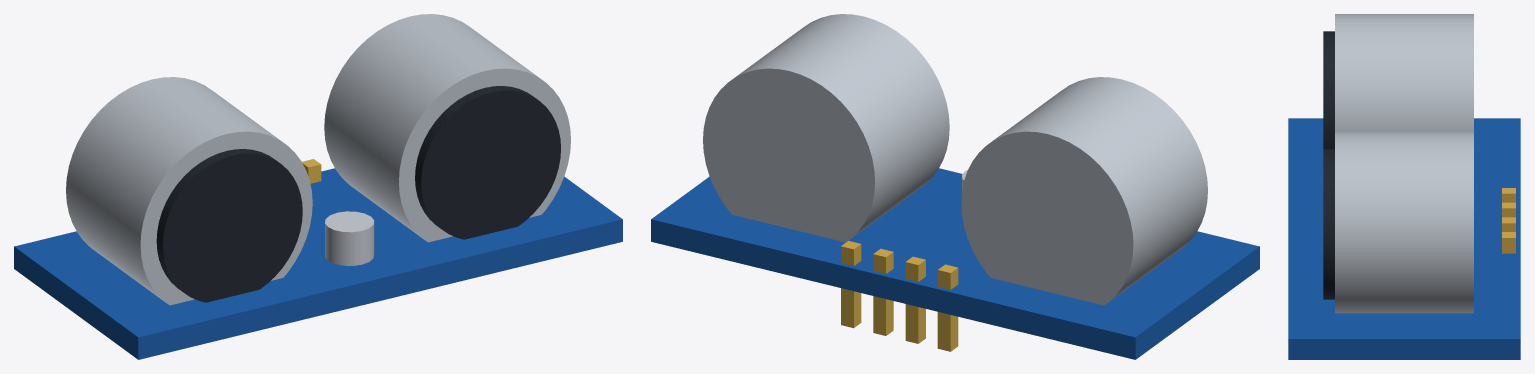
The model's file is hcsr04.glb.
3 views of the same model, side by side, from view 1: azimuth 30°, elevation 25°; view 2: azimuth 150°, elevation 25°; view 3: azimuth 270°, elevation 25° (orthographic). The views are drawn at different scales.
Size of the model in its own units: 0.45 by 0.195 by 0.2.
